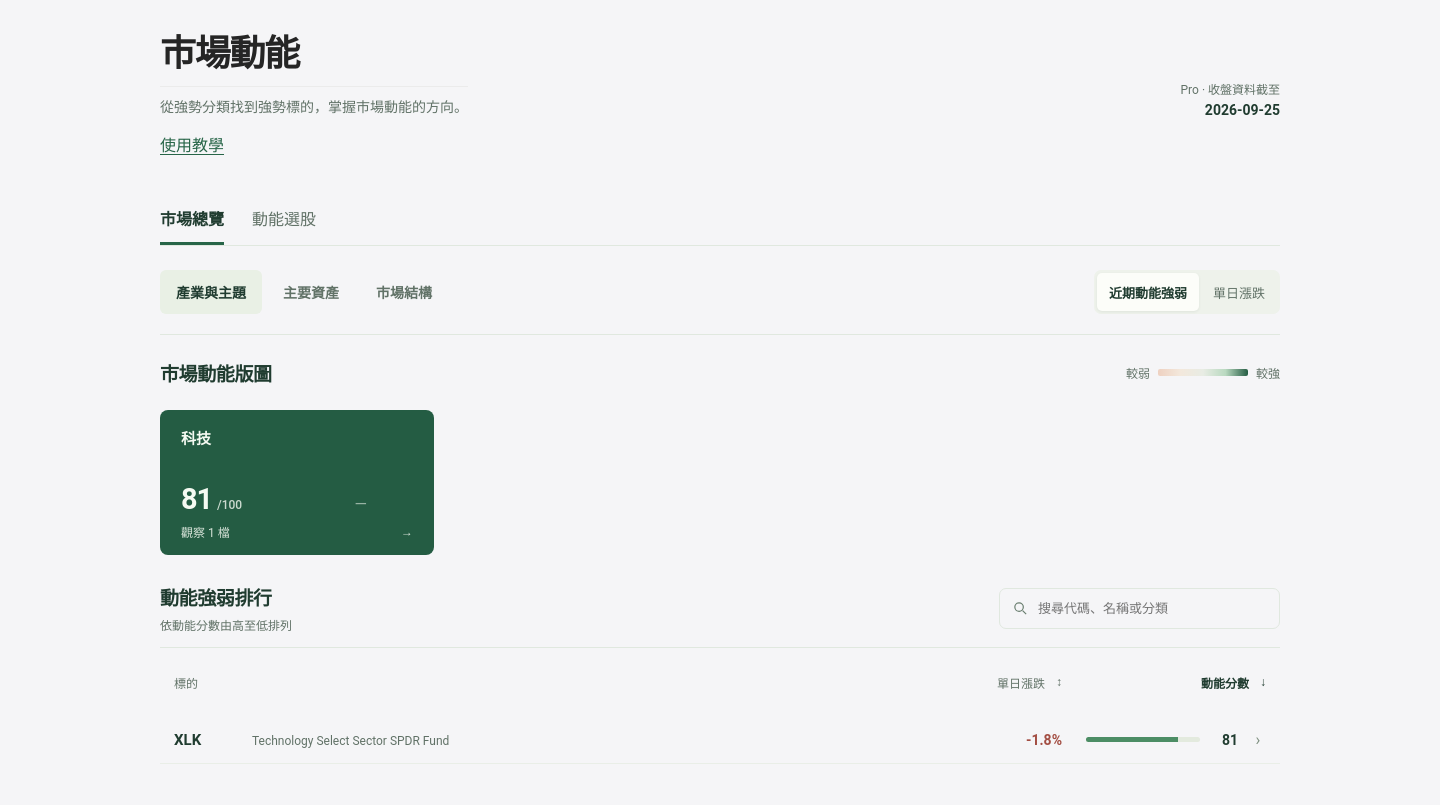
Test case: MomentumDashboardPage › shows relative strength and its average separately from the cumulative return chart
What coordinates should you click on to do the following:
click the button "XLK Technology Select Sector SPDR Fund -1.8% 81 ›"
I would click on:
 (351, 741)
Its box is [160, 716, 1280, 764].
(page scrolled)
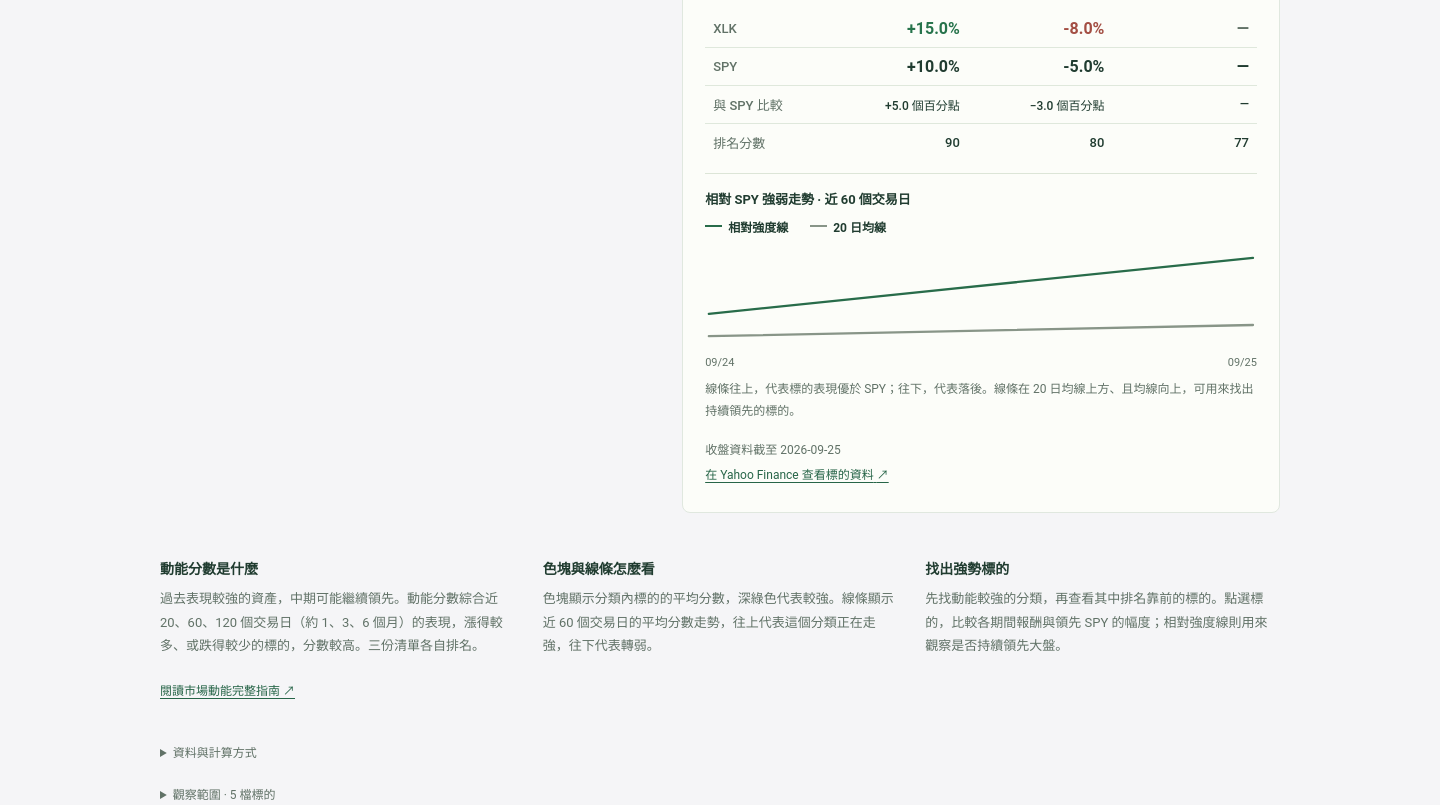
Expected: the picture named "XLK相對 SPY" is shown, [705, 218, 1257, 369]
Expected: the text "20 日均線" is shown, [810, 218, 886, 235]
Expected: the text "線條往上，代表標的表現優於 SPY；往下，代表落後。線條在 20 日均線上方、且均線向上，可用來找出持續領先的標的。" is shown, [705, 379, 1257, 422]
